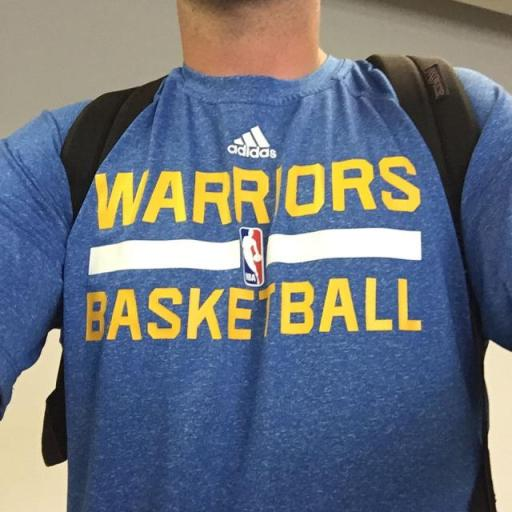Adidas: (224, 122, 279, 161)
